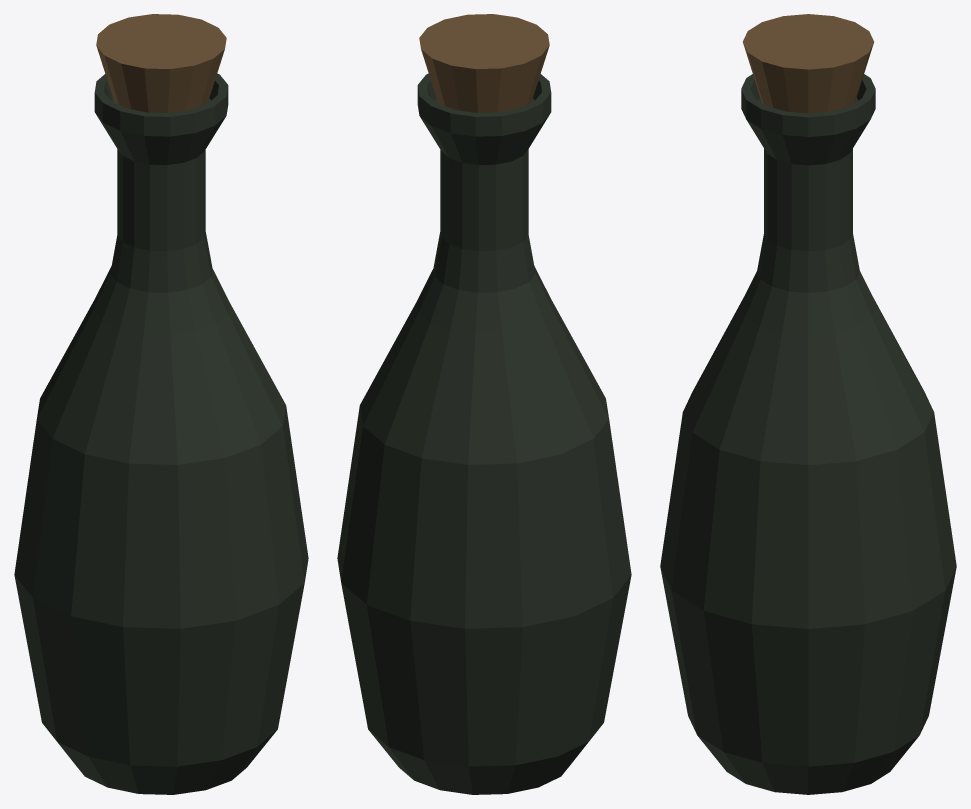
File: Wine bottle_1.fbx
3 renders of one model, left to right at view 1: azimuth 30°, elevation 25°; view 2: azimuth 150°, elevation 25°; view 3: azimuth 270°, elevation 25°, orthographic.
Parts seen in each view (by area): view 1: Wine bottle_1; view 2: Wine bottle_1; view 3: Wine bottle_1.
Part boxes in pixels (<box>): Wine bottle_1: <box>14,14,308,794</box>; Wine bottle_1: <box>337,14,631,794</box>; Wine bottle_1: <box>660,14,956,794</box>.
Size of the model in its own units: 27.55 by 73.38 by 27.55.
